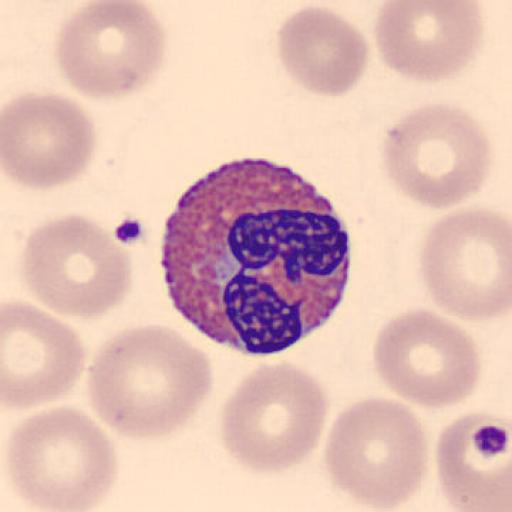RBC: (85, 322, 214, 441), (218, 360, 331, 475), (16, 211, 132, 321), (378, 101, 494, 211), (322, 395, 430, 511), (3, 405, 119, 512), (371, 306, 482, 411), (53, 0, 169, 100), (416, 204, 512, 321), (2, 90, 98, 191), (2, 298, 88, 410), (372, 0, 486, 83), (274, 4, 370, 99), (435, 414, 512, 512)
WBC: (160, 152, 352, 357)
